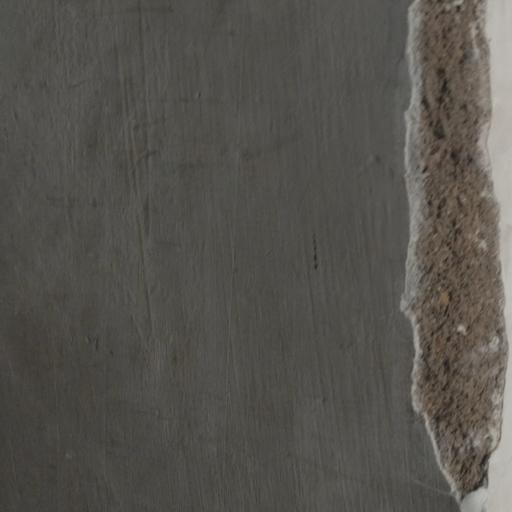spalling: (400, 3, 512, 511)
